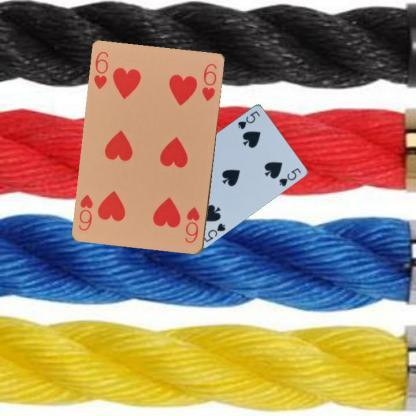5s: (200, 220, 228, 243), (235, 108, 261, 131)
6h: (183, 204, 202, 245), (92, 49, 110, 91)
